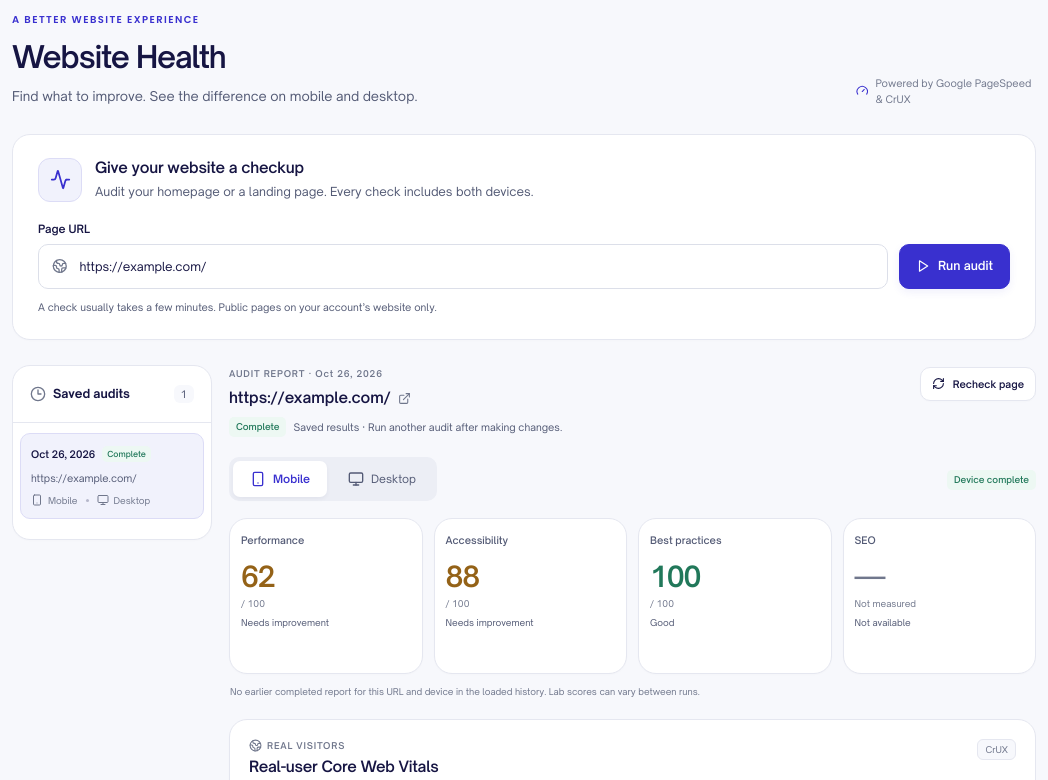
Test case: Website Health reports › shows missing values honestly and switches the selected device
This screenshot has width=1048, height=780.
Expected: the element with class "health-score-number" shows "62", [241,559,274,594]
Click the button "Desktop" at coordinates (382, 479), box [331,461,433,497]
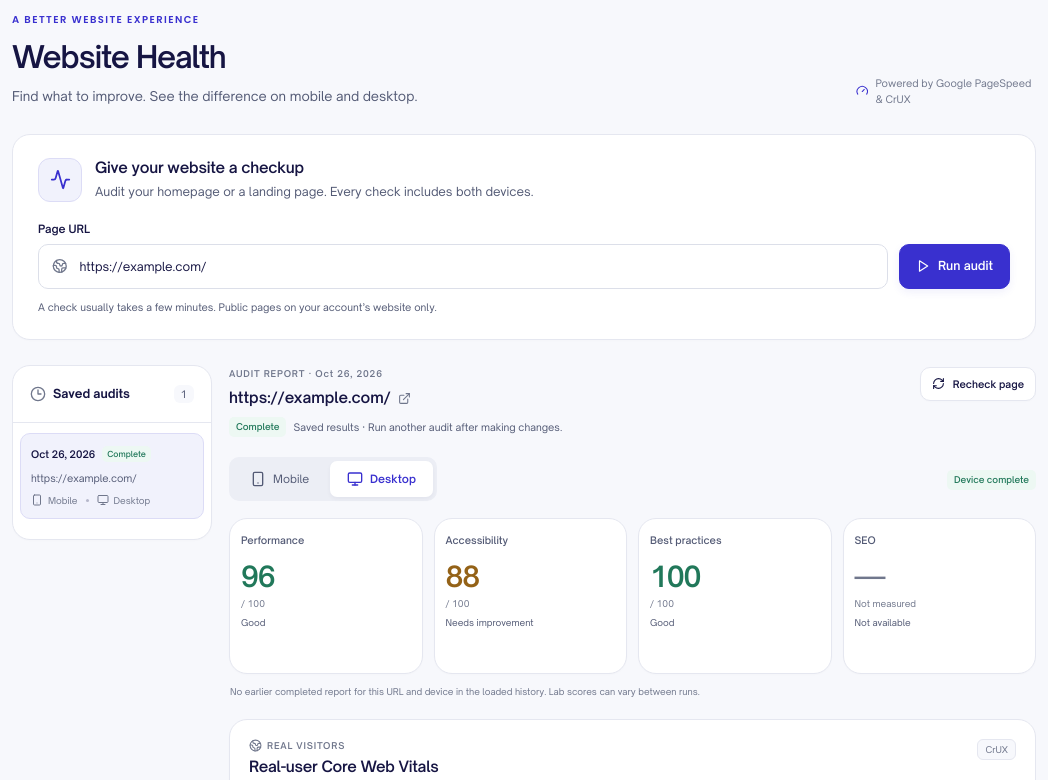
Result: the element with class "health-score-number" shows "96" at [241,559,274,594]
